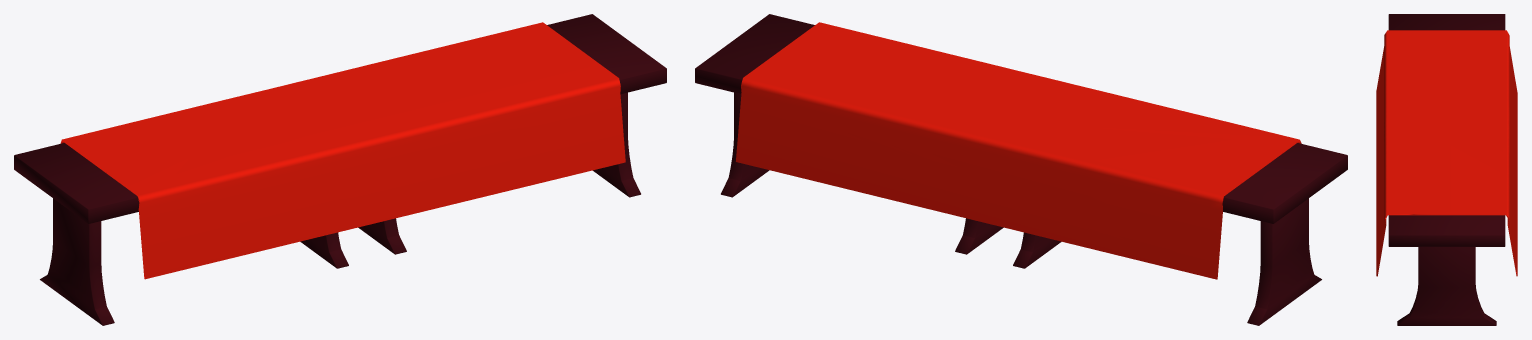
File: PartyTable.glb
The picture shows the model from 3 angles, left to right: view 1: azimuth 30°, elevation 25°; view 2: azimuth 150°, elevation 25°; view 3: azimuth 270°, elevation 25°; orthographic projection. The views are drawn at different scales.
Visible parts, largest first — view 1: TableCloth_0, PartyTables_1; view 2: TableCloth_0, PartyTables_1; view 3: TableCloth_0, PartyTables_1.
Boxes of the visible parts, x1,y1,x2,y2 form: TableCloth_0: [60, 22, 625, 279]; PartyTables_1: [14, 14, 666, 325]; TableCloth_0: [736, 22, 1301, 279]; PartyTables_1: [695, 14, 1347, 325]; TableCloth_0: [1376, 30, 1517, 276]; PartyTables_1: [1388, 14, 1505, 325].
Bounding box in the file's own units: 4.04 × 0.8612 × 1.09.
